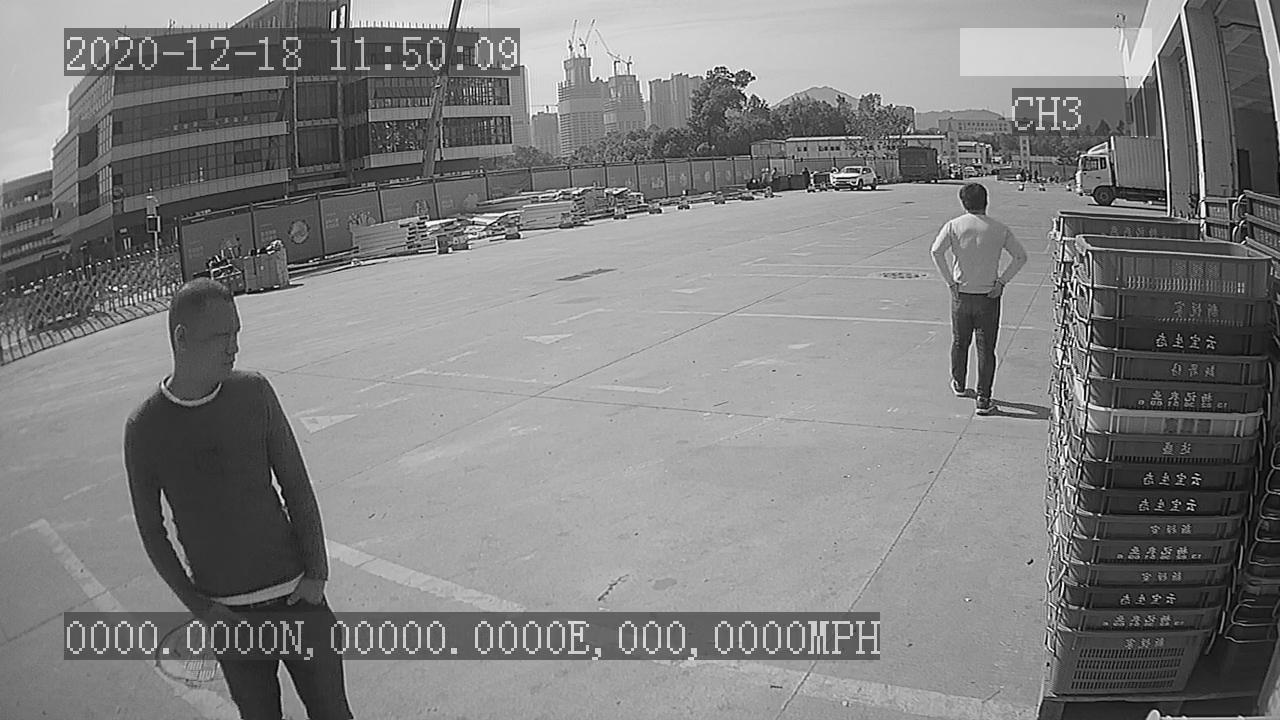person: (924, 177, 1033, 417)
